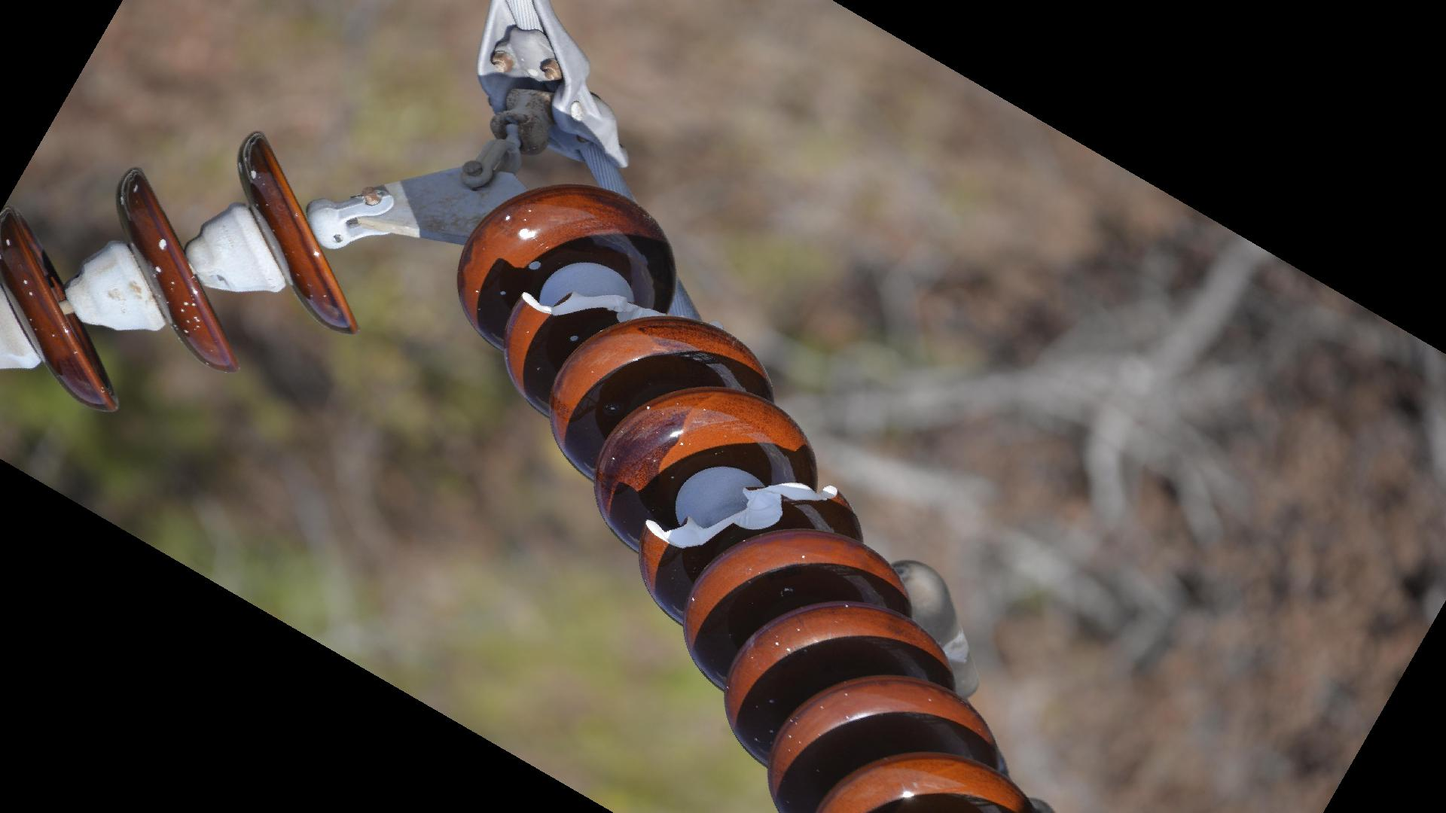insulator: (450, 177, 1049, 813), (1, 123, 363, 416)
insulator_breakage: (639, 472, 844, 555), (511, 282, 673, 333)
